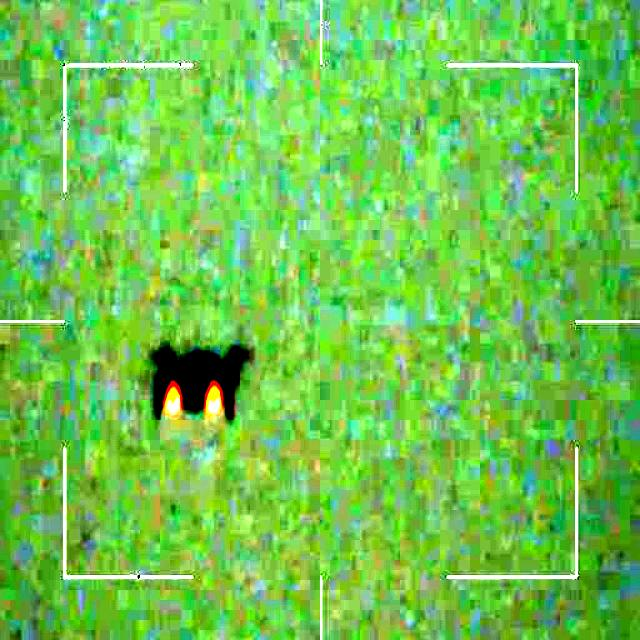bird: (149, 339, 251, 421)
